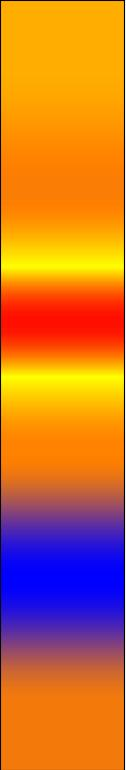Thermal Runaway: (10, 11, 118, 491), (15, 680, 115, 766)
critical: (10, 649, 119, 674)
safe: (11, 508, 118, 639)
